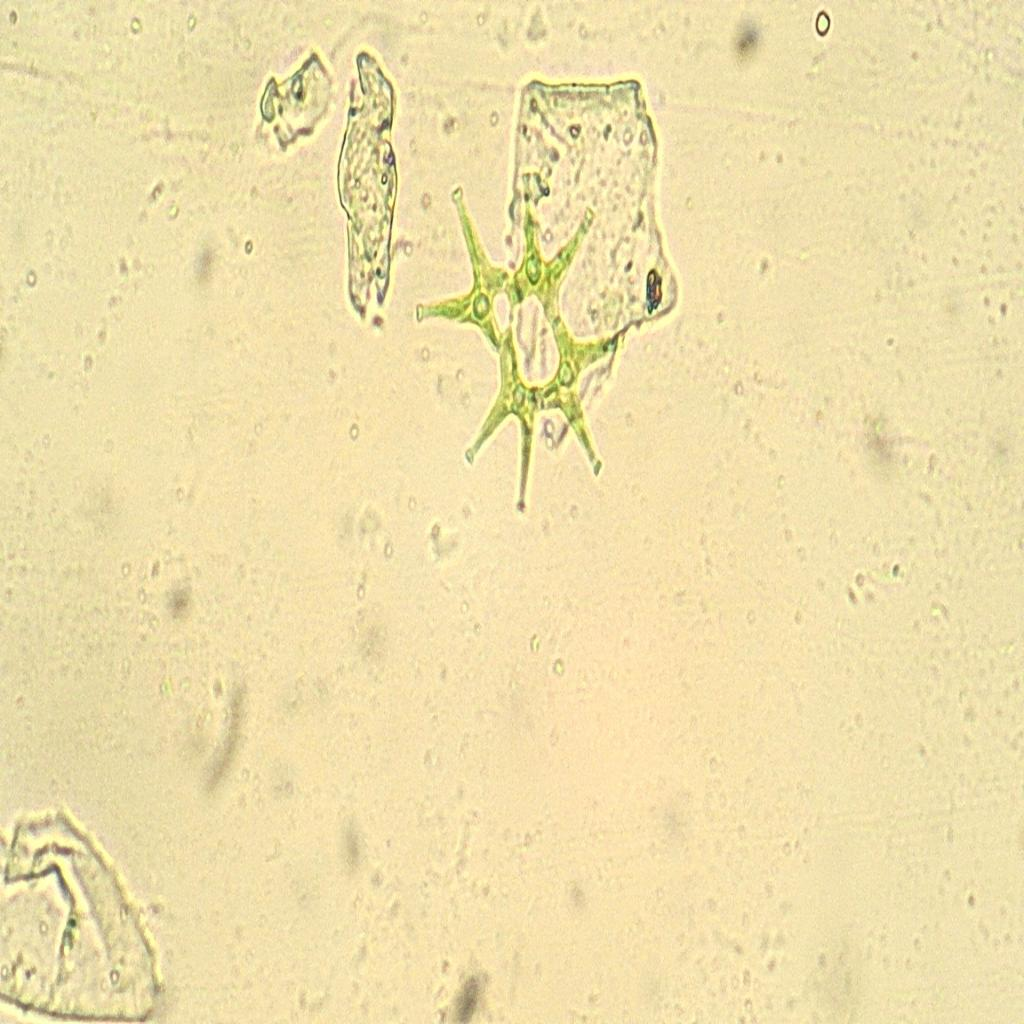Pediastrum_75FO: (403, 140, 625, 531)
